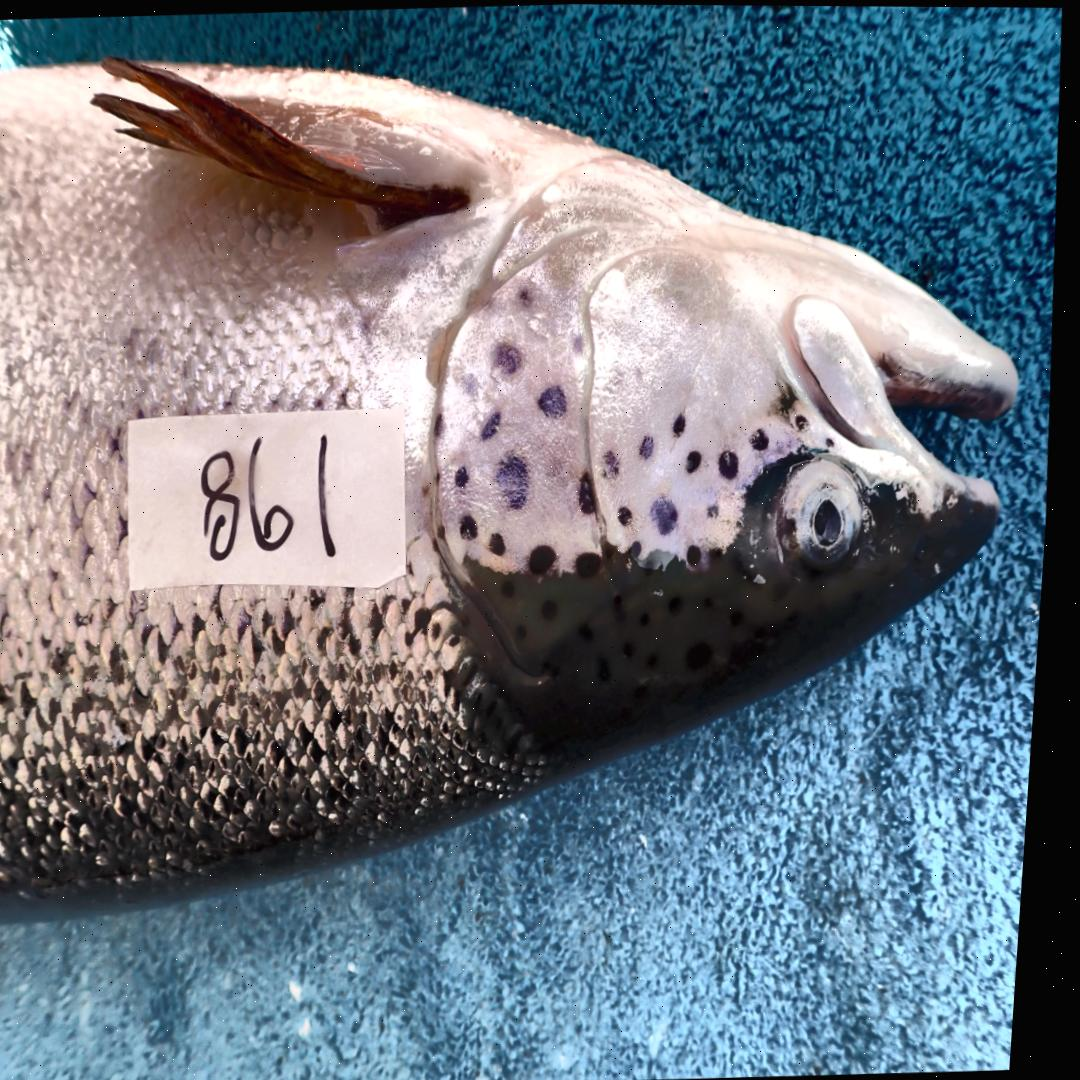spot: (501, 452, 535, 508), (655, 495, 683, 532), (542, 383, 572, 417), (535, 541, 563, 573), (499, 342, 524, 373), (583, 472, 602, 512), (582, 551, 608, 577), (485, 410, 506, 439), (724, 448, 743, 477), (607, 449, 624, 477), (466, 512, 483, 538), (754, 428, 773, 450), (495, 531, 512, 554), (644, 434, 659, 457), (690, 449, 707, 469), (623, 505, 638, 525), (693, 543, 708, 563), (678, 410, 691, 433), (636, 536, 650, 557), (711, 500, 726, 519), (460, 465, 473, 485), (439, 412, 451, 433), (800, 412, 814, 429), (523, 285, 534, 302)
